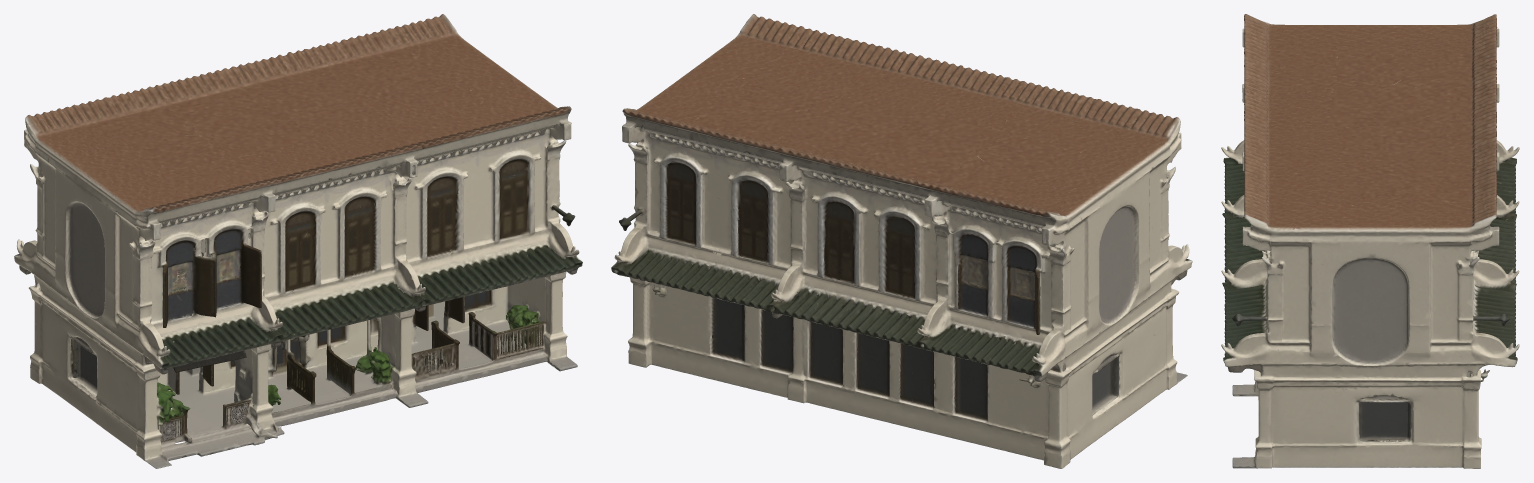
File: baba-nyonya.glb
3 views of the same model, side by side, from view 1: azimuth 30°, elevation 25°; view 2: azimuth 150°, elevation 25°; view 3: azimuth 270°, elevation 25° (orthographic). The views are drawn at different scales.
Size of the model in its own units: 1.9 by 1.09 by 1.16.
1 material, 1 textured.
